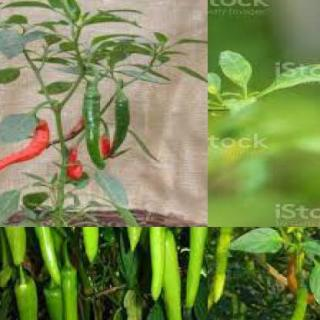green_chilli: (131, 227, 170, 302), (77, 82, 108, 171), (19, 227, 66, 282), (105, 86, 140, 156), (162, 228, 188, 319), (208, 227, 233, 314), (183, 227, 207, 311), (268, 281, 314, 319), (60, 266, 85, 320), (12, 274, 38, 319), (0, 227, 28, 266), (42, 282, 68, 320), (78, 227, 105, 263), (123, 227, 150, 256)
